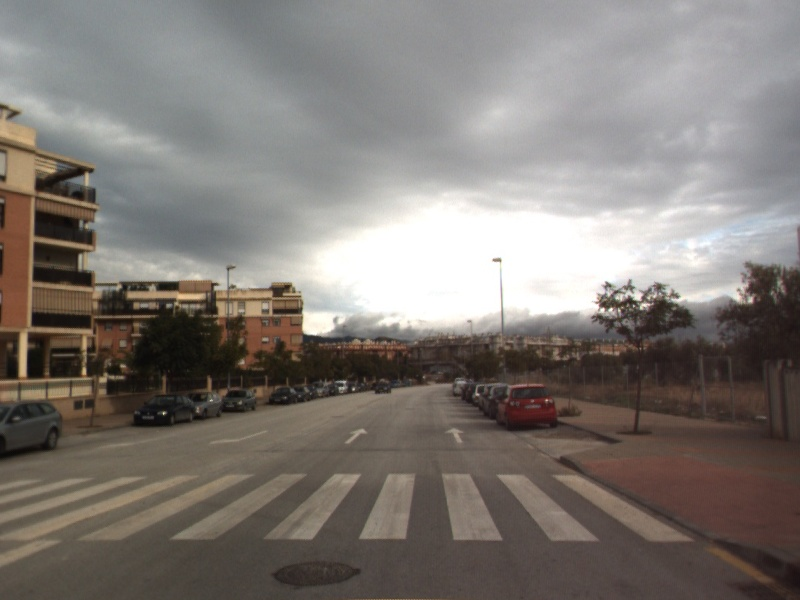STRAIGHT: (342, 426, 370, 446), (443, 425, 467, 445)
